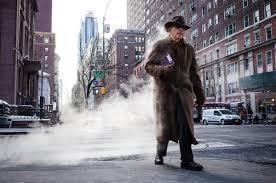smoke: (0, 18, 170, 173)
